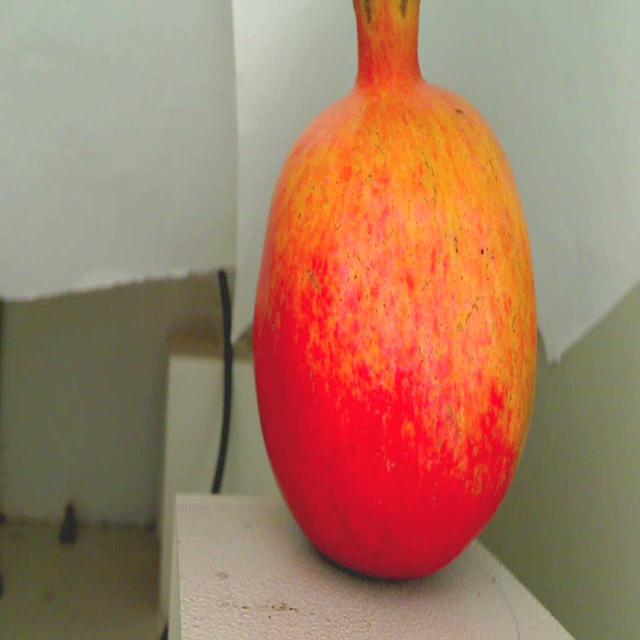pomegranate: (244, 0, 552, 598)
